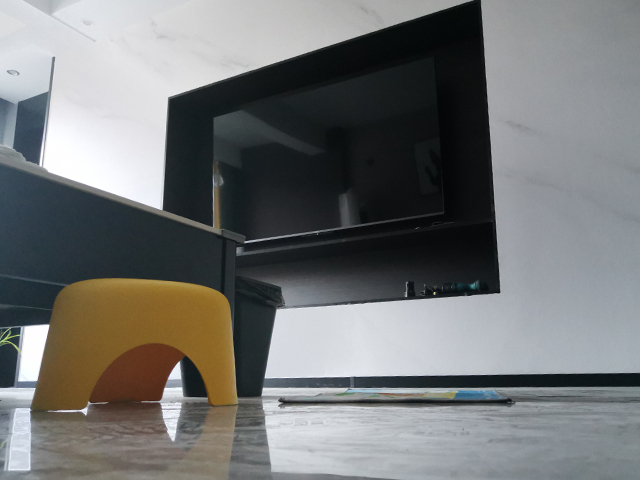carpet: (275, 387, 516, 407)
stool: (26, 275, 241, 414)
table: (1, 153, 251, 399)
trashcan: (229, 272, 288, 399)
